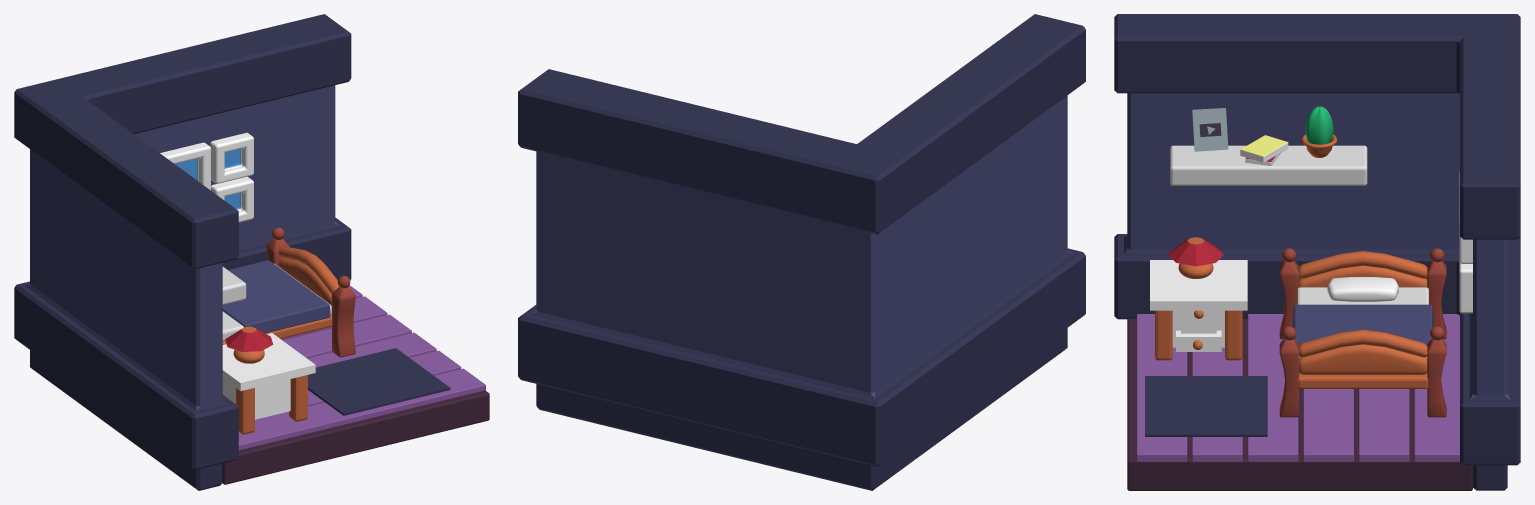
The model's file is room.glb.
The picture shows the model from 3 angles, left to right: view 1: azimuth 30°, elevation 25°; view 2: azimuth 150°, elevation 25°; view 3: azimuth 270°, elevation 25°; orthographic projection. The views are drawn at different scales.
Visible parts, largest first — view 1: room_walls, room_floor_boards, room_floor, carpet, bed_duvet, widnow, drawer_body, bed_legs, bed_head_board, drawer_legs, lamp, shelf (+1 smaller); view 2: room_walls; view 3: room_walls, room_floor_boards, room_floor, bed_head_board, carpet, shelf, drawer_body, bed_legs, bed_duvet, bed_base_board, drawer_legs, bed_pillow (+6 smaller).
Boxes of the visible parts, <box> form: room_walls: <box>14,14,351,490</box>; room_floor_boards: <box>238,285,485,450</box>; room_floor: <box>222,390,489,484</box>; carpet: <box>308,348,450,415</box>; bed_duvet: <box>222,260,330,333</box>; widnow: <box>160,132,253,222</box>; drawer_body: <box>222,333,315,419</box>; bed_legs: <box>266,227,355,357</box>; bed_head_board: <box>278,247,339,306</box>; drawer_legs: <box>236,375,307,434</box>; lamp: <box>225,326,273,363</box>; shelf: <box>222,266,246,304</box>; room_walls: <box>518,14,1085,490</box>; room_walls: <box>1114,14,1520,490</box>; room_floor_boards: <box>1136,314,1459,461</box>; room_floor: <box>1127,318,1472,490</box>; bed_head_board: <box>1298,251,1427,374</box>; carpet: <box>1145,376,1267,436</box>; shelf: <box>1170,145,1367,185</box>; drawer_body: <box>1150,260,1247,351</box>; bed_legs: <box>1279,248,1446,417</box>; bed_duvet: <box>1293,304,1433,345</box>; bed_base_board: <box>1298,373,1428,388</box>; drawer_legs: <box>1155,310,1242,360</box>; bed_pillow: <box>1327,277,1398,301</box>.
Size of what is drawn, in the model's own units: 2.35 by 2 by 2.35.
